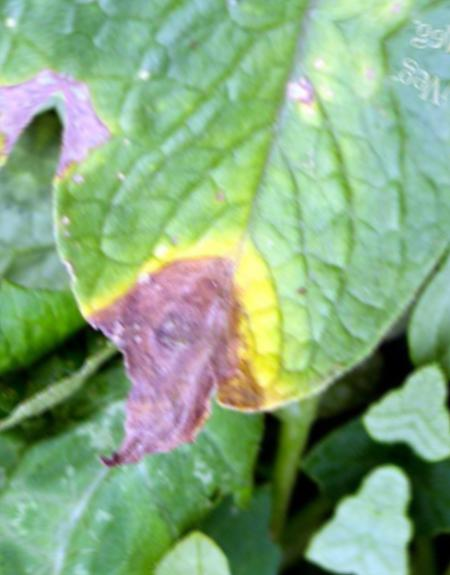Tomato Early blight leaf: (0, 0, 450, 556)
